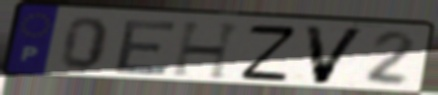0: (59, 15, 112, 74)
2: (362, 29, 417, 90)
E: (111, 19, 181, 77)
H: (169, 20, 246, 81)
V: (301, 23, 369, 86)
Z: (238, 23, 299, 82)
